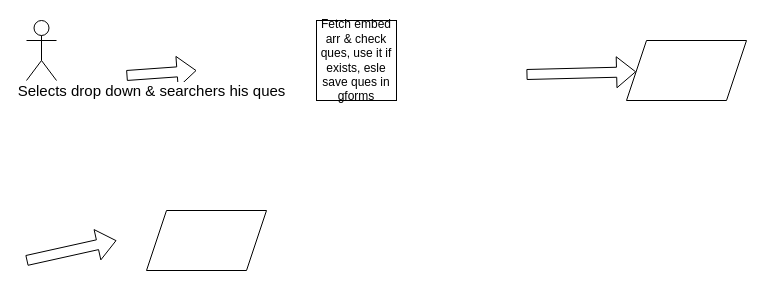
This 764x288 diagram has some shape labels left out. Each missing label, with the centre of its shape:
"inference & show result" belongs at [206,240].
"translate ques & search ques in cloudflare/heroku" belongs at [686,70].
